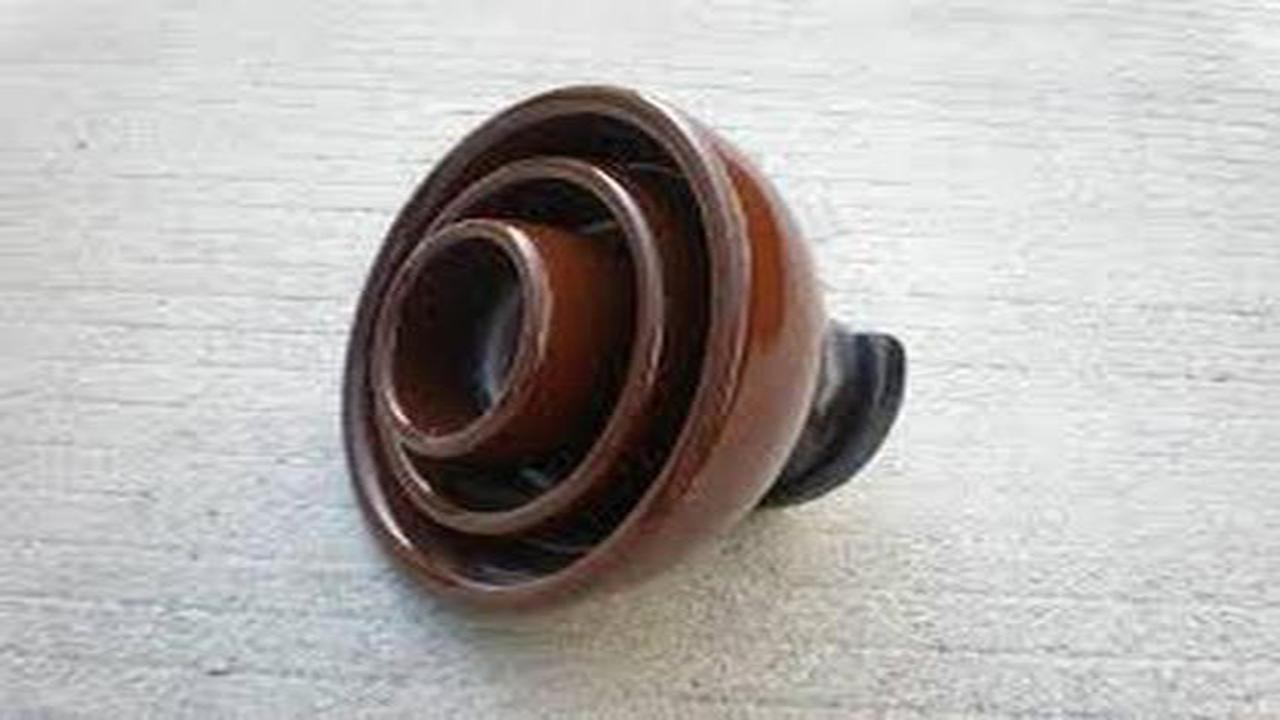insulator_pin: (336, 78, 924, 622)
